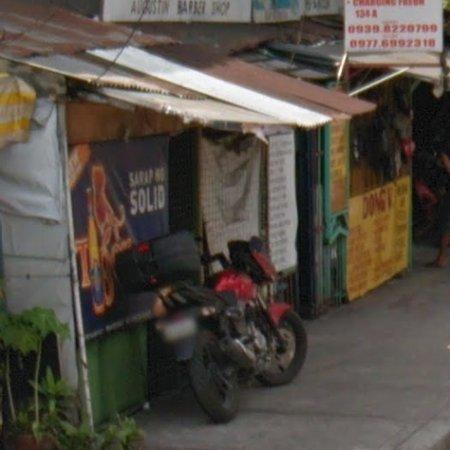motorcycles: (115, 231, 308, 424)
